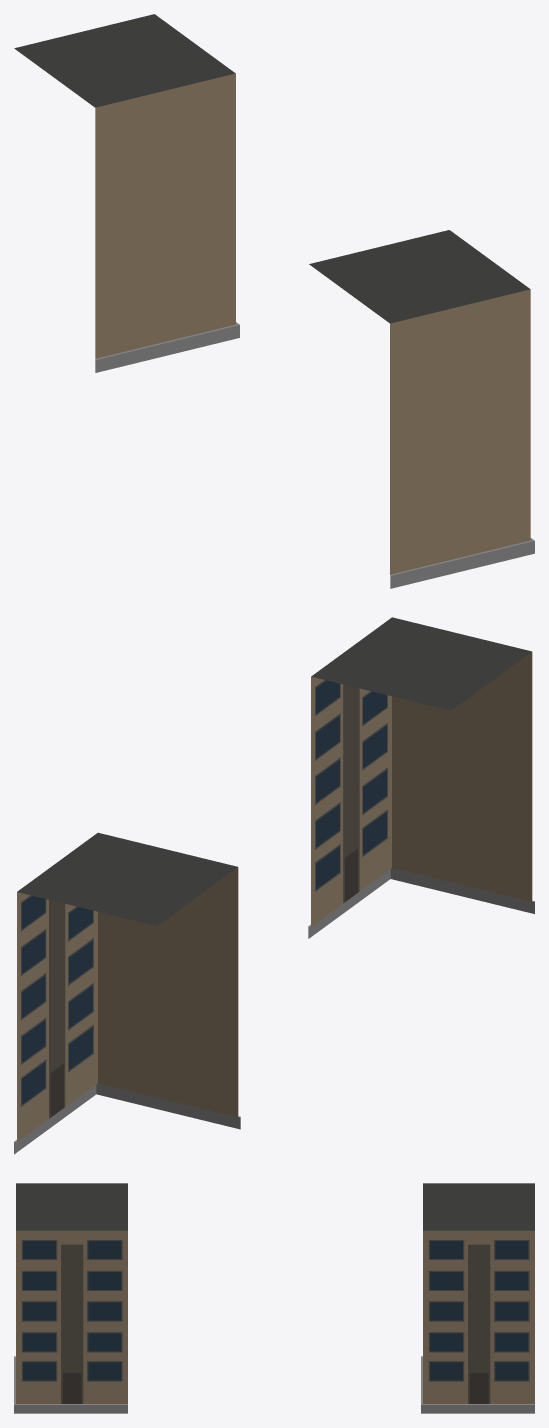
File: Building2.fbx
3 views of the same model, one above another, from view 1: azimuth 30°, elevation 25°; view 2: azimuth 150°, elevation 25°; view 3: azimuth 270°, elevation 25° (orthographic). The views are drawn at different scales.
Visible parts, largest first — view 1: pCube5, pCube13; view 2: pCube13, pCube5; view 3: pCube5, pCube13.
Boxes of the visible parts, <box> form: pCube5: <box>309,230,534,588</box>; pCube13: <box>14,14,239,372</box>; pCube13: <box>14,832,240,1154</box>; pCube5: <box>308,617,534,938</box>; pCube5: <box>14,1183,127,1413</box>; pCube13: <box>421,1183,534,1413</box>.
Bounding box in the file's own units: 7.24 × 12.63 × 32.73.
